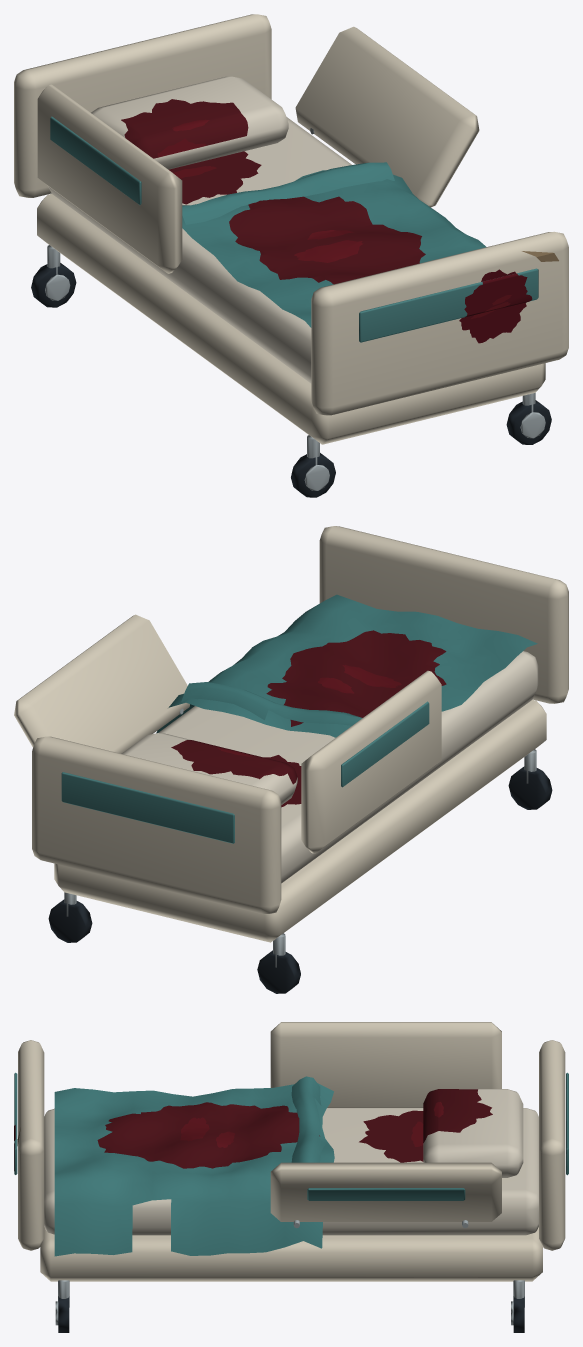
The model's file is recovery_bed.glb.
The picture shows the model from 3 angles, top to bottom: view 1: azimuth 30°, elevation 25°; view 2: azimuth 150°, elevation 25°; view 3: azimuth 270°, elevation 25°; orthographic projection. The views are drawn at different scales.
Parts seen in each view (by area): view 1: OB_RecoveryBed_01_Static; view 2: OB_RecoveryBed_01_Static; view 3: OB_RecoveryBed_01_Static.
Boxes of the visible parts, left/top/right/bottom form: OB_RecoveryBed_01_Static: left=14, top=14, right=568, bottom=497; OB_RecoveryBed_01_Static: left=14, top=526, right=568, bottom=993; OB_RecoveryBed_01_Static: left=14, top=1022, right=568, bottom=1332.
Size of the model in its own units: 1.25 by 0.87 by 2.11.
